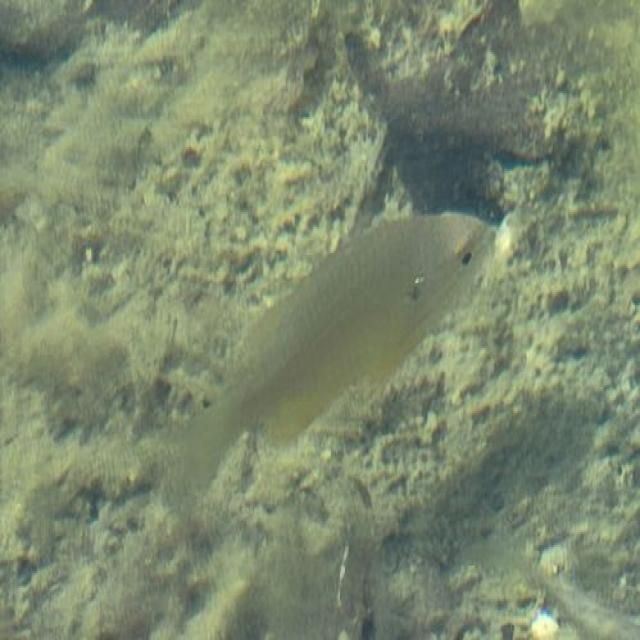Gunes Levregi: (184, 196, 503, 503)
